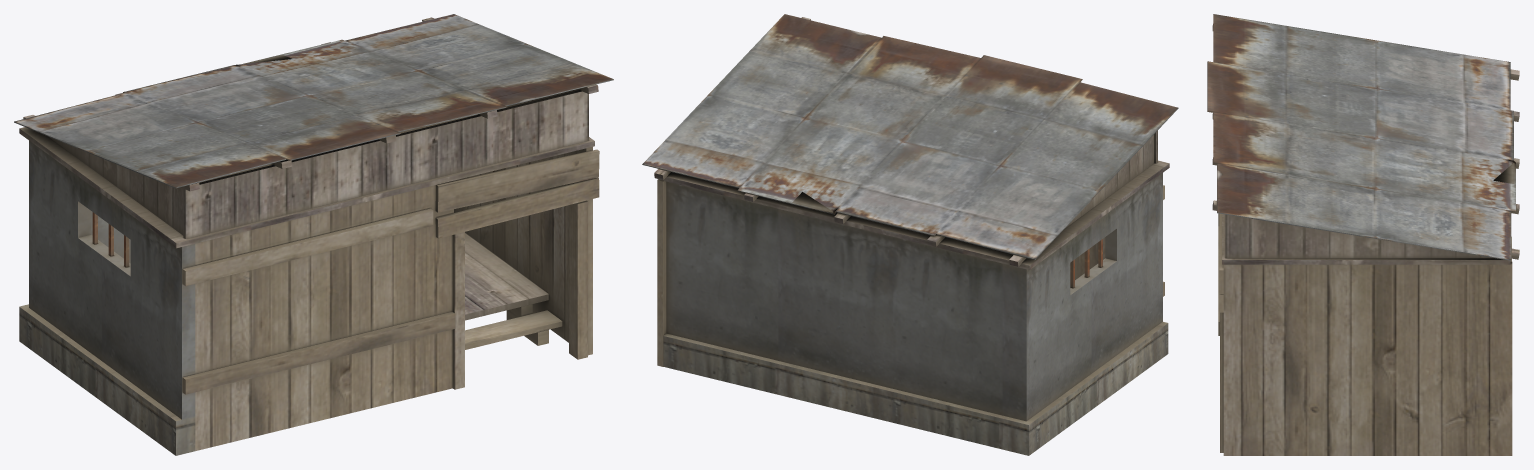
Rendered from old_building.glb.
3 views of the same model, side by side, from view 1: azimuth 30°, elevation 25°; view 2: azimuth 150°, elevation 25°; view 3: azimuth 270°, elevation 25° (orthographic). The views are drawn at different scales.
Parts seen in each view (by area): view 1: building_1; view 2: building_1; view 3: building_1.
Boxes of the visible parts, bbox=[...] form: building_1: bbox=[14, 14, 613, 455]; building_1: bbox=[642, 14, 1178, 455]; building_1: bbox=[1207, 14, 1519, 455].
Size of the model in its own units: 6.64 by 3.99 by 4.43.
1 material, 1 textured.
